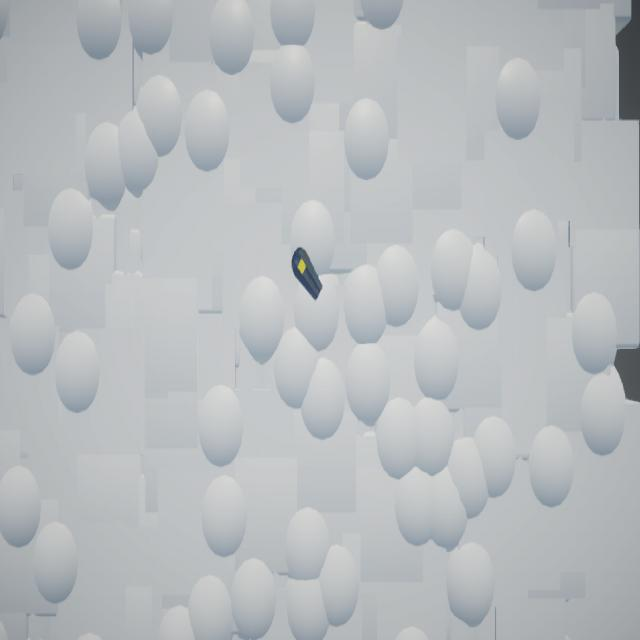handle_folk: (292, 249, 324, 302)
